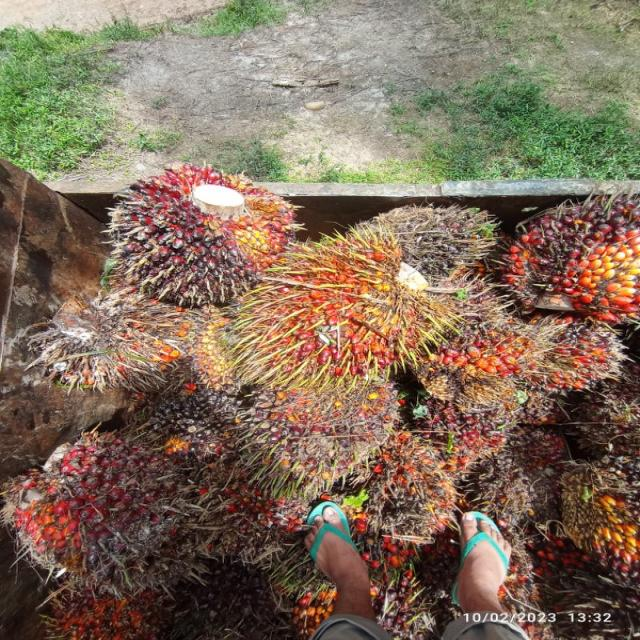fraksi 00: (356, 195, 505, 278), (136, 370, 244, 469)
fraksi 1: (108, 154, 292, 306), (250, 379, 405, 490)
fraksi 3: (232, 230, 467, 402), (2, 432, 180, 570), (507, 191, 640, 320), (521, 310, 624, 408)
fraksi 4: (425, 283, 524, 417), (353, 430, 461, 526), (29, 573, 157, 640)
